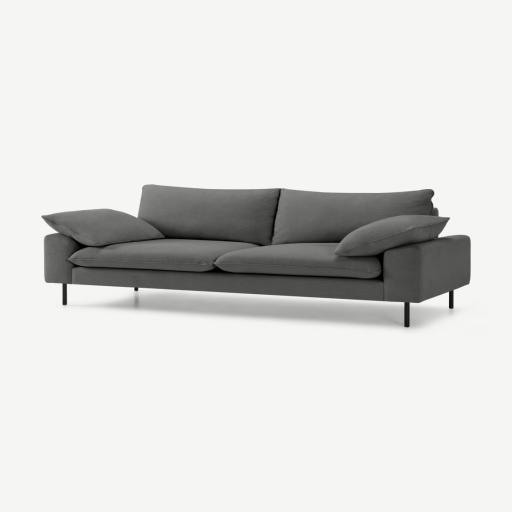back_cushion: (139, 185, 422, 245)
base: (68, 267, 384, 300)
left_arm: (383, 235, 470, 302)
legs: (404, 301, 410, 327), (62, 284, 67, 305), (450, 290, 453, 308), (134, 287, 138, 291)
right_arm: (44, 234, 82, 284)
seat_cushion: (68, 239, 381, 278)
two-seater: (0, 0, 511, 512)
